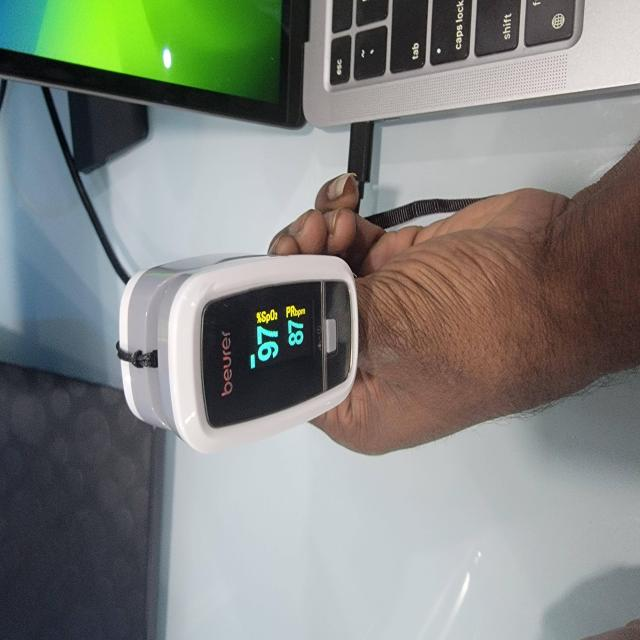spo2: (117, 255, 360, 456)
